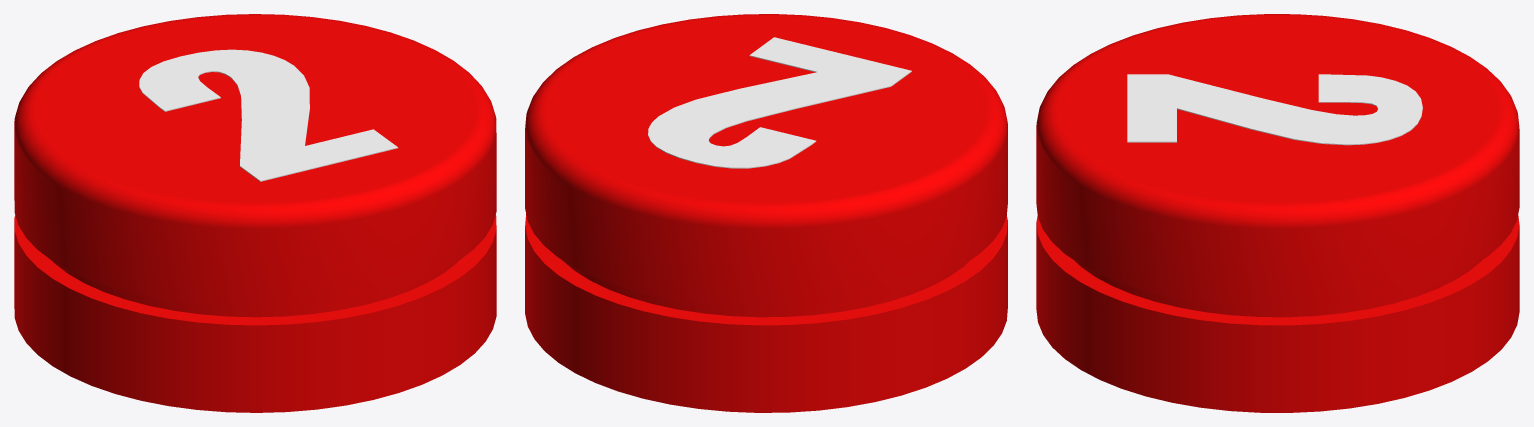
The model's file is nubot_frame2_red.dae.
3 views of the same model, side by side, from view 1: azimuth 30°, elevation 25°; view 2: azimuth 150°, elevation 25°; view 3: azimuth 270°, elevation 25° (orthographic).
Visible parts, largest first — view 1: SketchUp (×3), instance_0; view 2: SketchUp (×3), instance_0; view 3: SketchUp (×3), instance_0.
Part boxes in pixels (x1,y1,x2,y2): SketchUp (×3): (14, 14, 496, 412); instance_0: (139, 49, 398, 181); SketchUp (×3): (525, 14, 1007, 412); instance_0: (648, 37, 911, 168); SketchUp (×3): (1036, 14, 1519, 412); instance_0: (1127, 74, 1422, 145).
Size of the model in its own units: 19.66 by 19.68 by 9.09.
